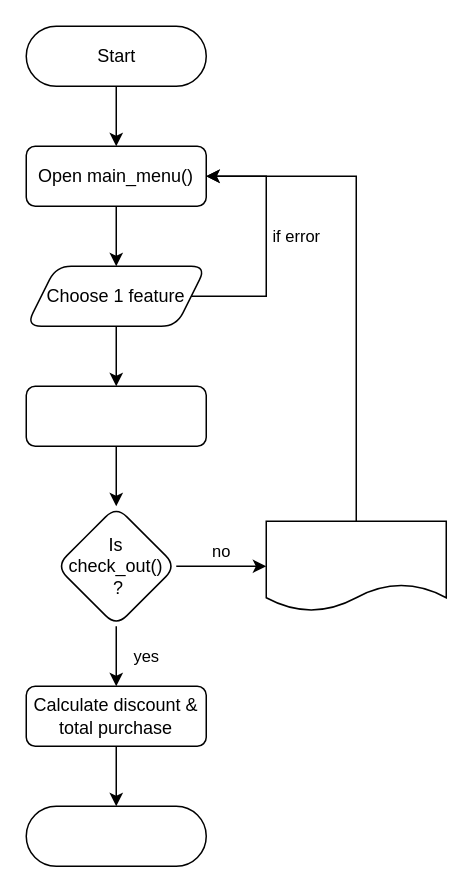
This 473x893 diagram has some shape labels left out. Each missing label, with the centre of its shape:
"Finish" belongs at [115,835].
"Run chosen method():" belongs at [115,415].
"Update transaction table" belongs at [355,565].
